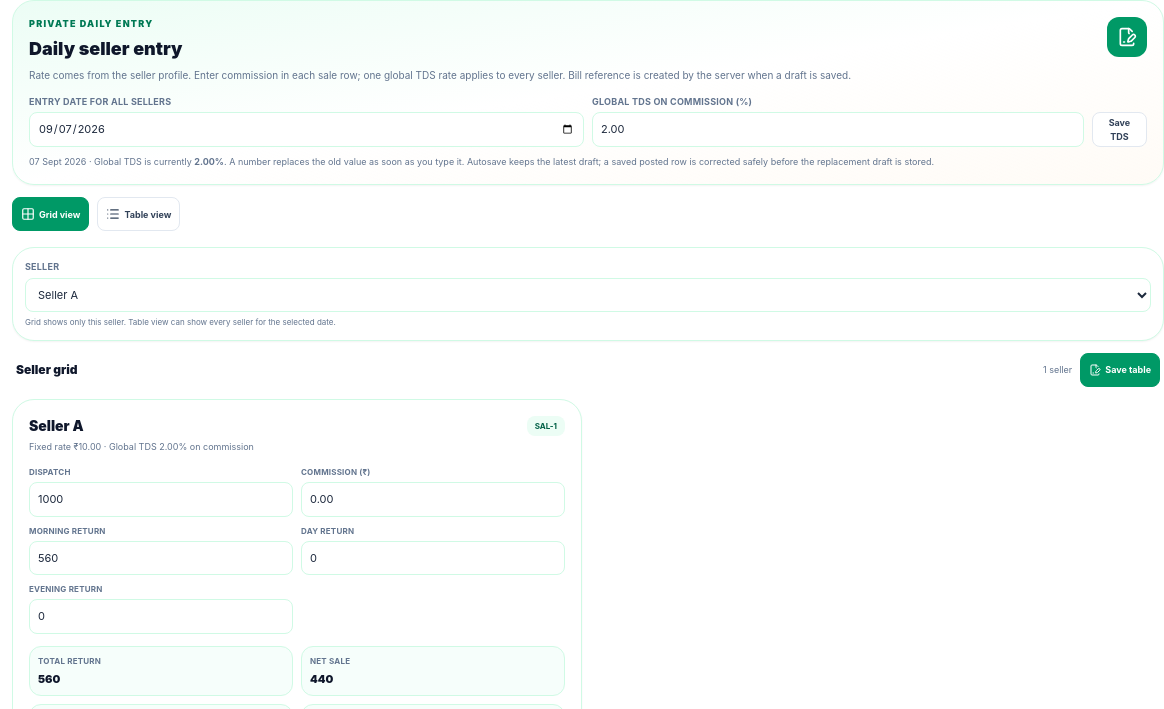
Test: DailySellerEntry local-first projection › uses the DEVICE-specific message when edit staging itself cannot be saved durably
This screenshot has width=1164, height=709.
Replace the text in the field named "Seller A morning return" with "917". click: (161, 558)
box: [29,541,293,575]
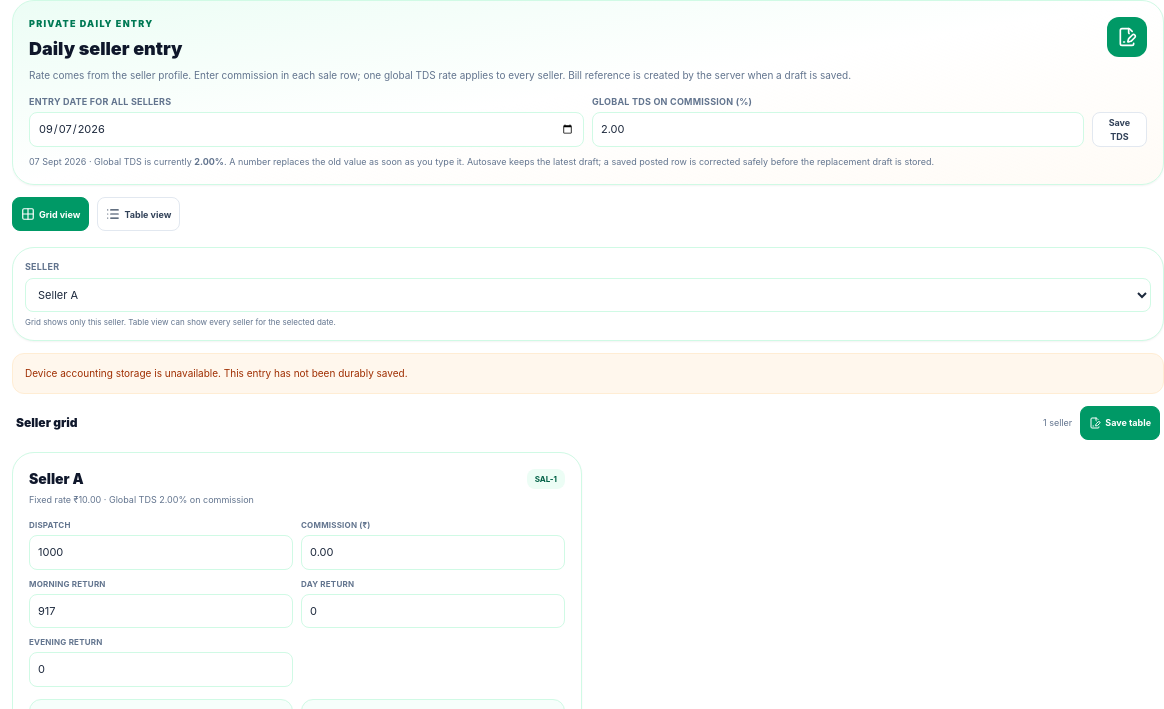
Result: the message shows "Device accounting storage is unavailable" at [25,367,408,379]
